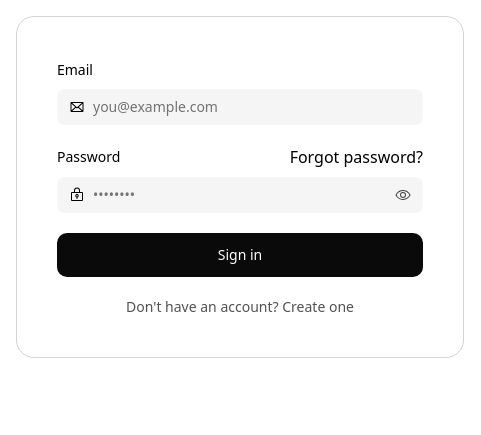
Test case: LoginForm › should display validation errors for empty fields
Click the button "Sign in".
click(240, 255)  # box [57,233,423,277]
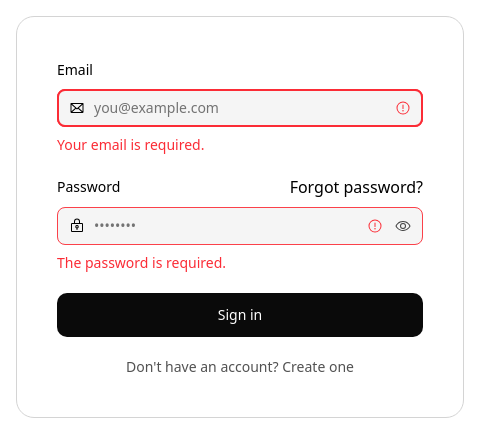
Now the text "Your email is required." is shown, box [57,135,204,154]
Now the text "The password is required." is shown, box [57,253,226,272]
